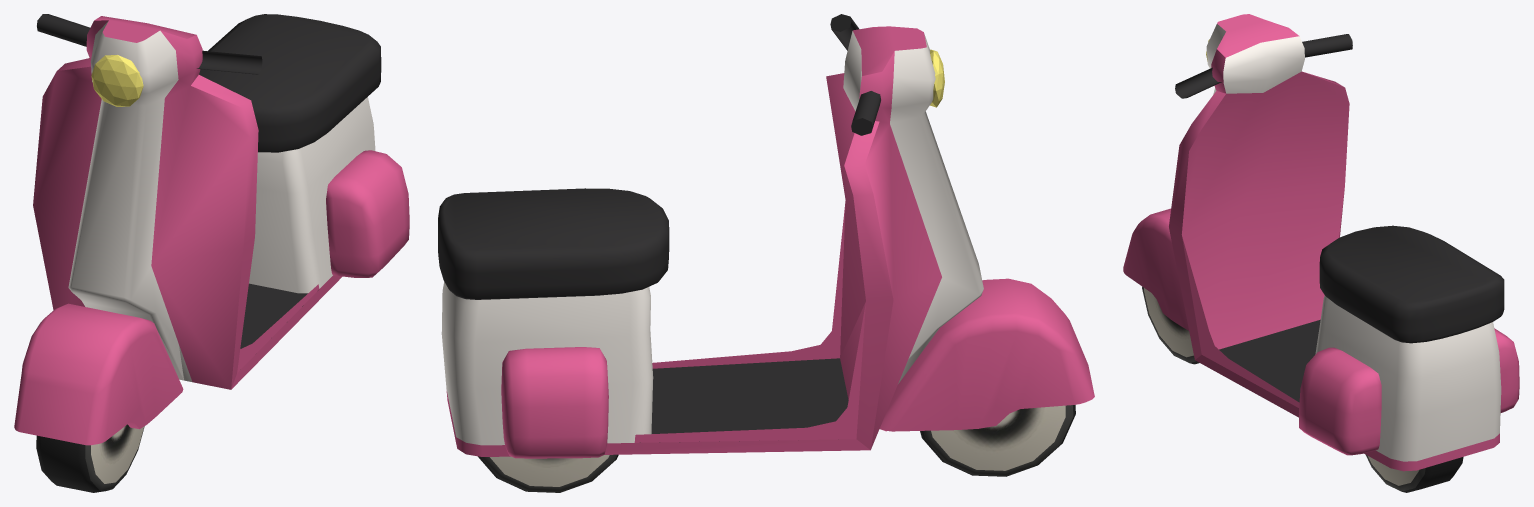
Rendered from 2-cycle.glb.
3 views of the same model, side by side, from view 1: azimuth 30°, elevation 25°; view 2: azimuth 150°, elevation 25°; view 3: azimuth 270°, elevation 25° (orthographic). The views are drawn at different scales.
Parts seen in each view (by area): view 1: motorbike.001; view 2: motorbike.001; view 3: motorbike.001.
Part boxes in pixels (left/top/right/bottom): motorbike.001: left=14, top=14, right=409, bottom=492; motorbike.001: left=438, top=14, right=1094, bottom=492; motorbike.001: left=1123, top=14, right=1519, bottom=492.
Bounding box in the file's own units: 11 × 8.92 × 8.93.
1 material, 1 textured.
